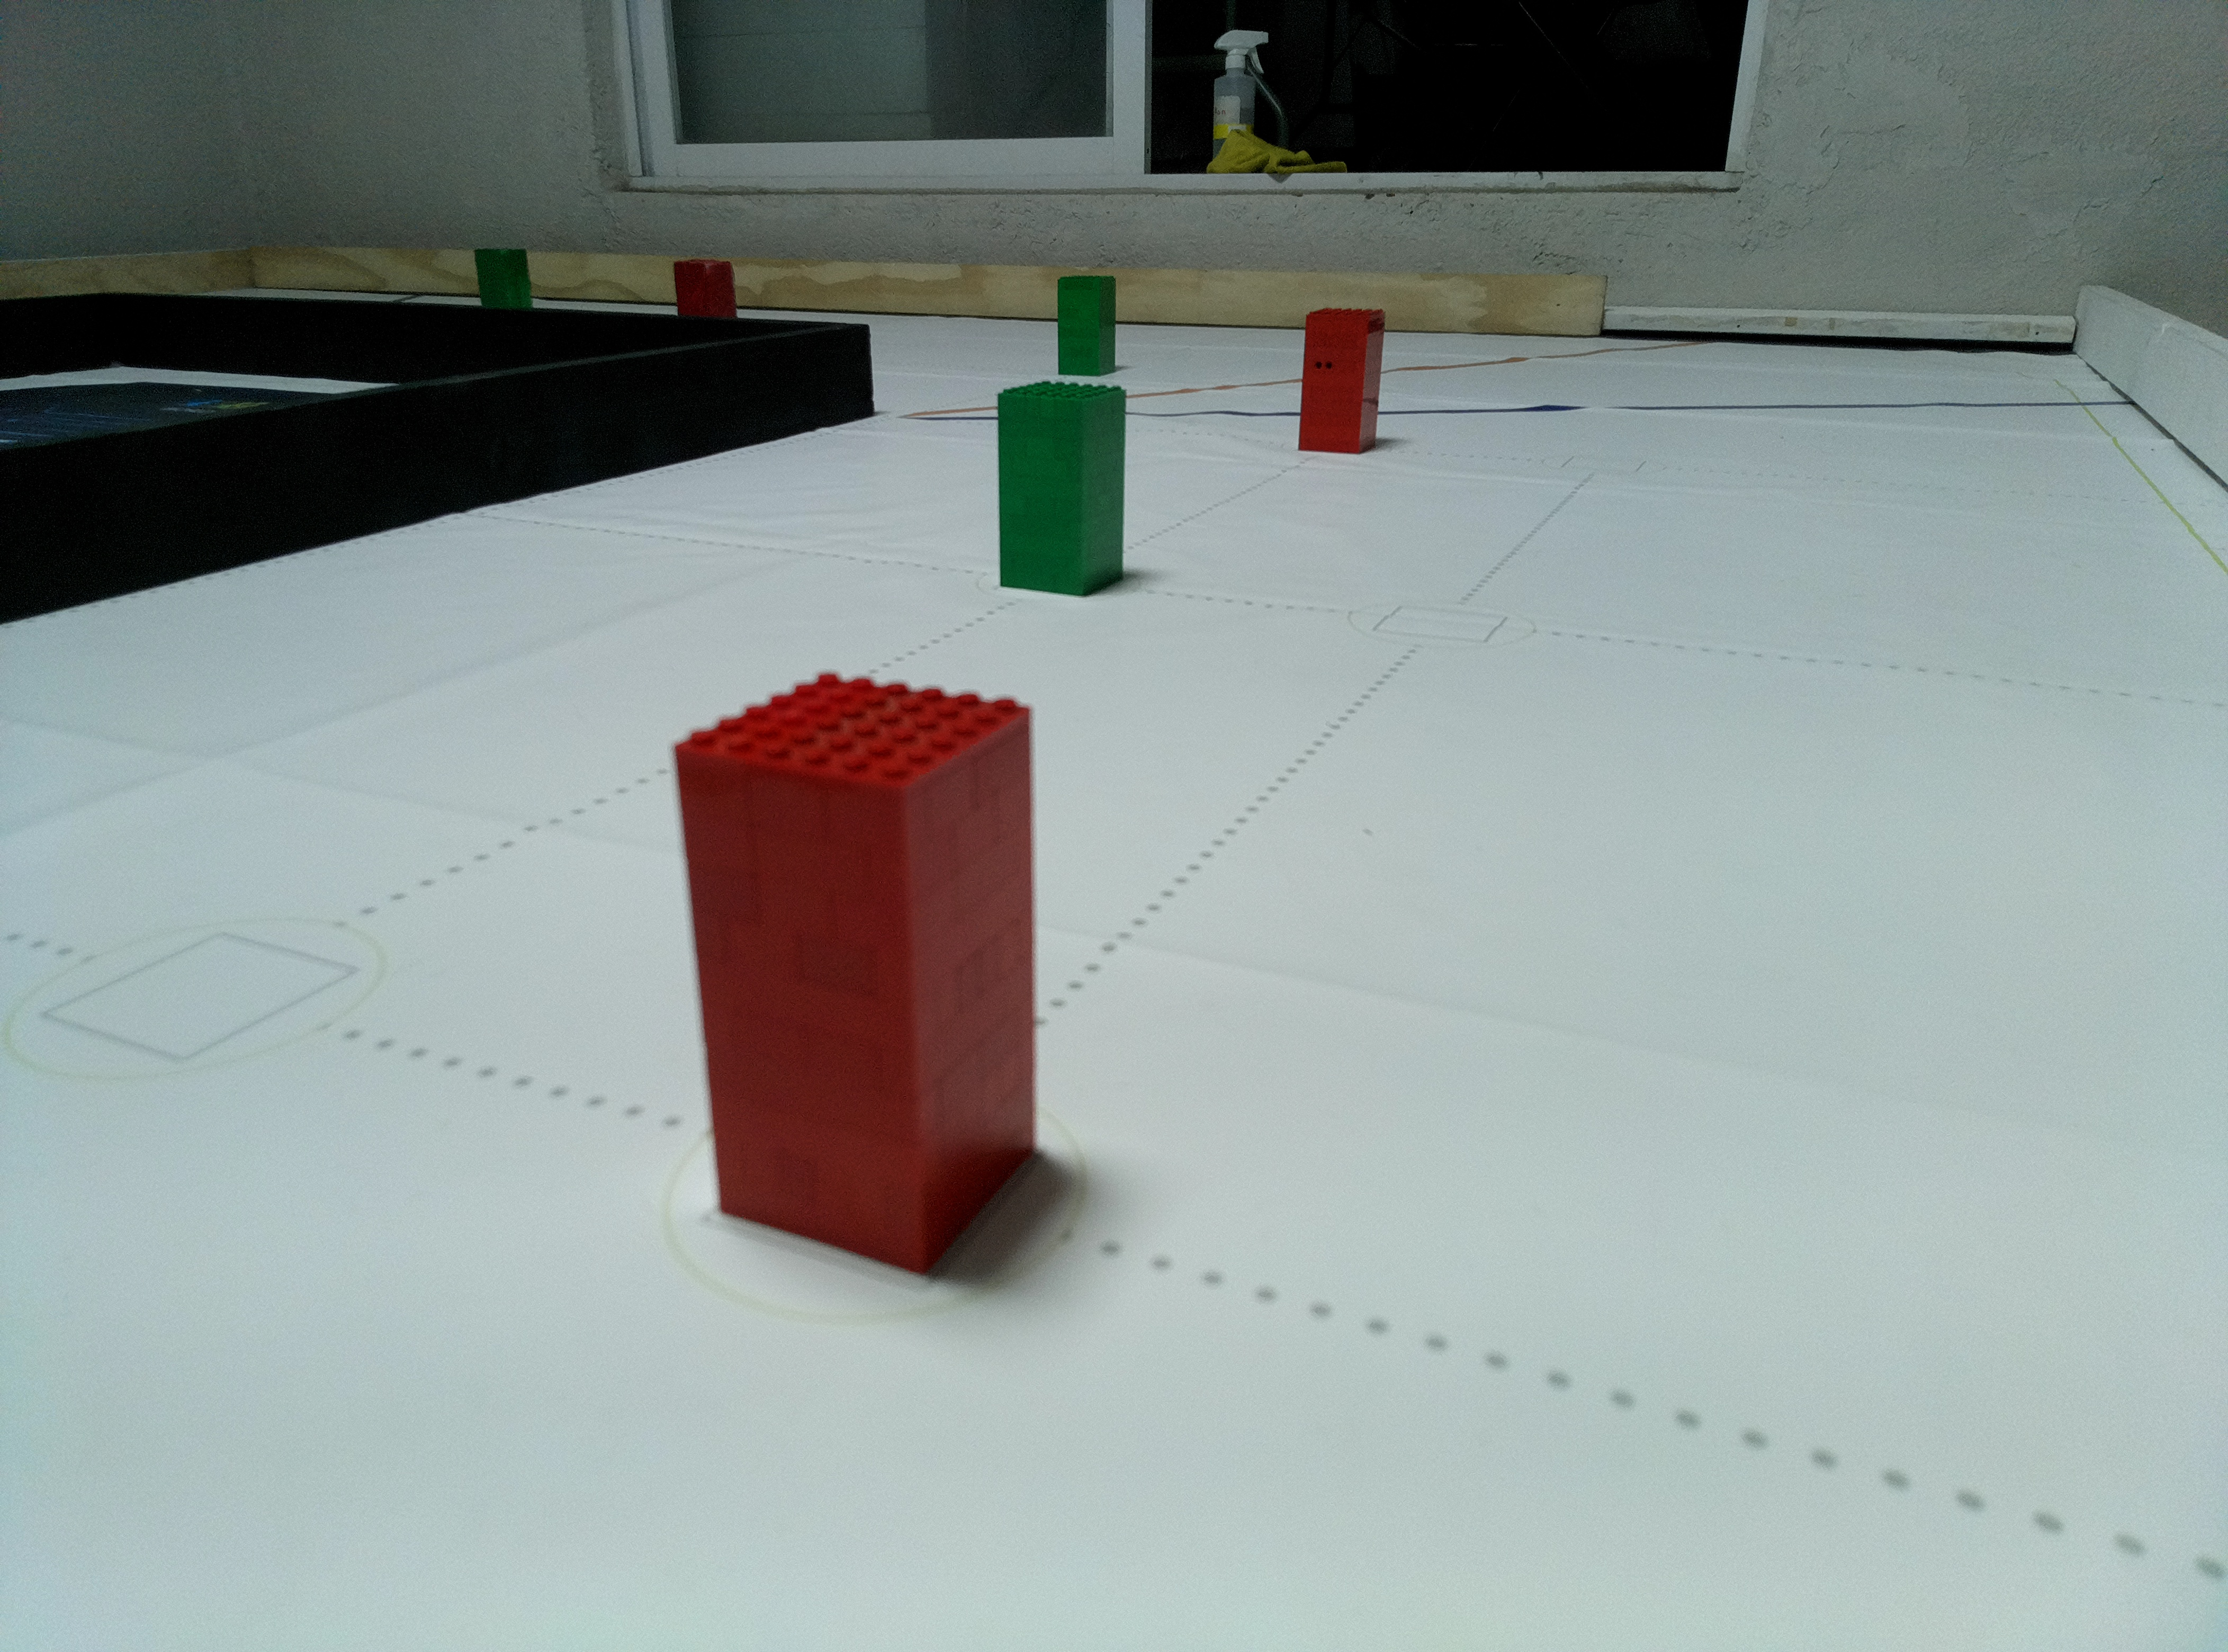greenbox: (993, 378, 1128, 599), (1057, 272, 1117, 378), (474, 246, 536, 307)
redbox: (668, 668, 1039, 1284), (1296, 307, 1388, 455), (672, 257, 737, 316)
